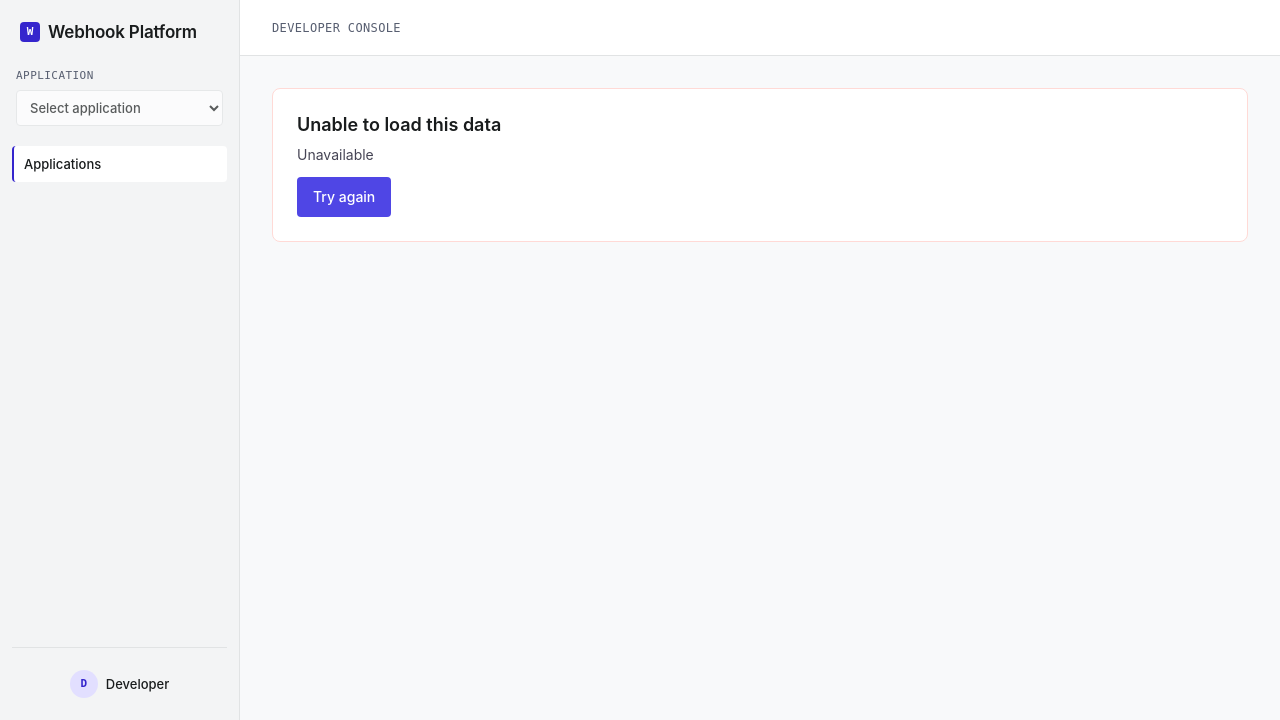
Test: keeps loading/errors distinct from the empty state and retries application listing
This screenshot has width=1280, height=720.
Expected: the message shows "Unable to load this data", [297,114,501,135]
Expected: the heading "Create your first application" is not shown
Click the button "Try again": x=344, y=197 [297,177,391,217]
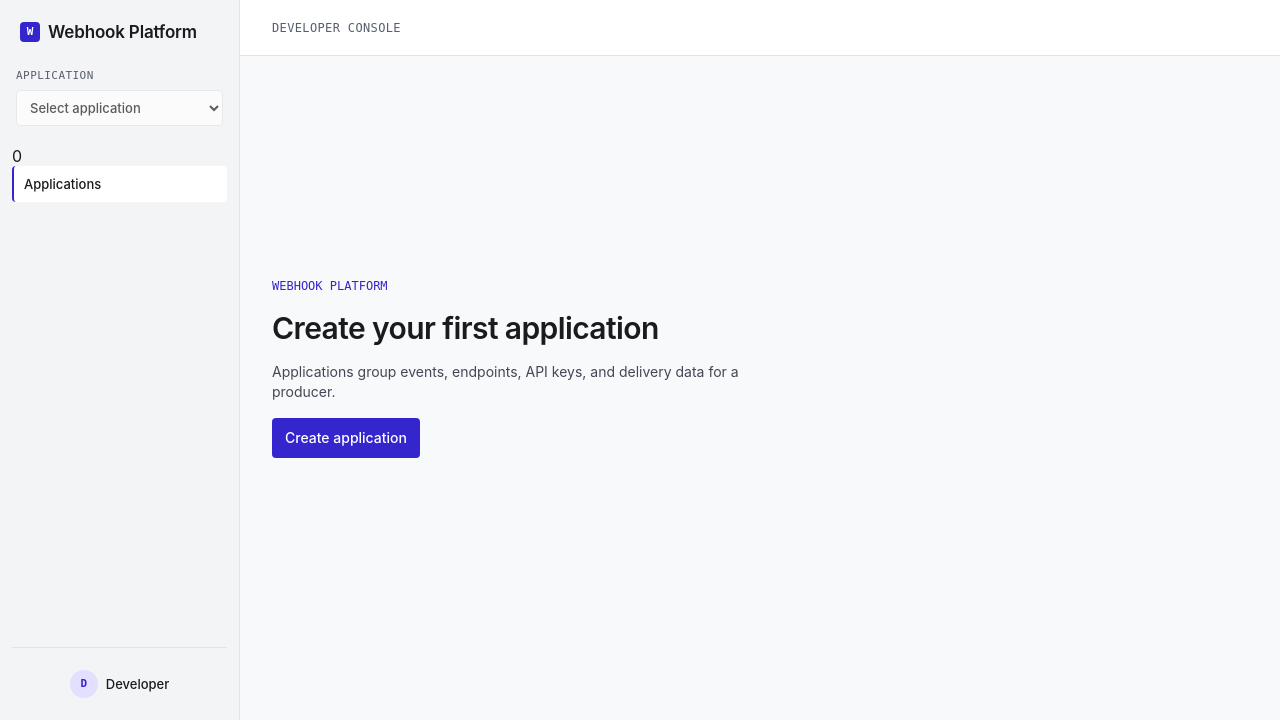
Expected: the link "Applications" is shown, [12,166,227,202]
Result: the heading "Create your first application" is shown at [272,310,659,346]
